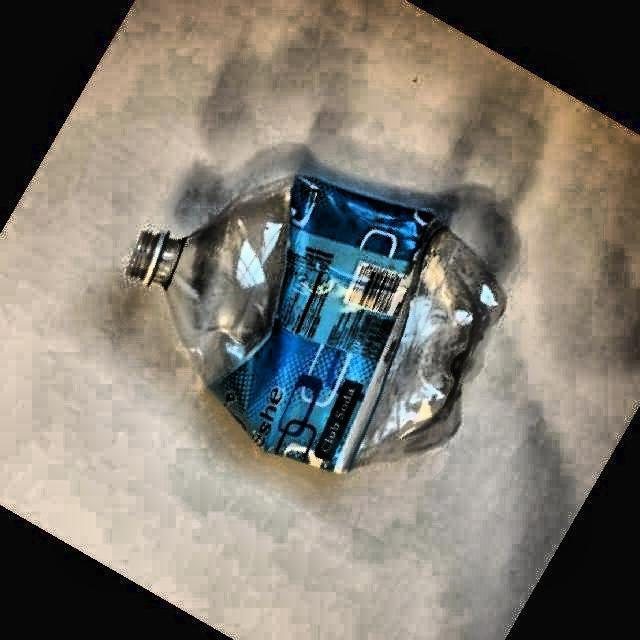plastic: (128, 176, 505, 472)
